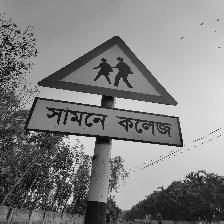College-in-front: (24, 34, 207, 172)
